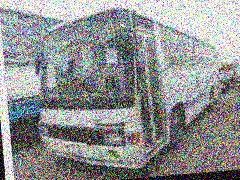bus: (25, 0, 227, 177)
